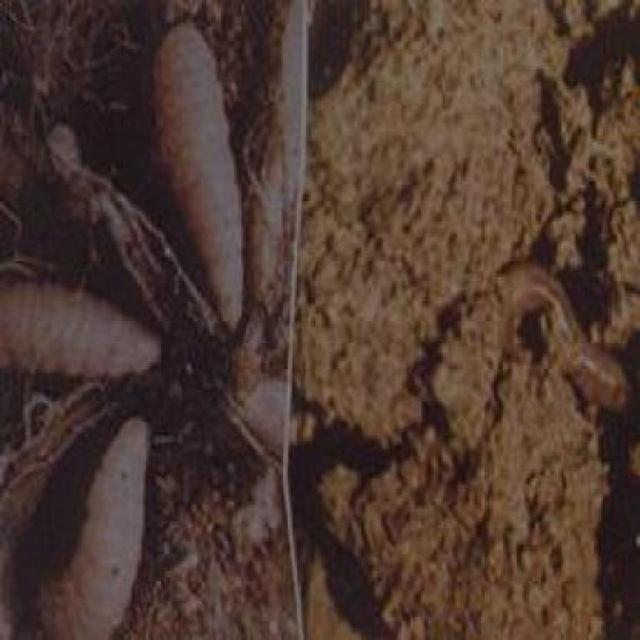whorl-maggot: (149, 18, 244, 328), (37, 411, 154, 638), (2, 285, 162, 378)
